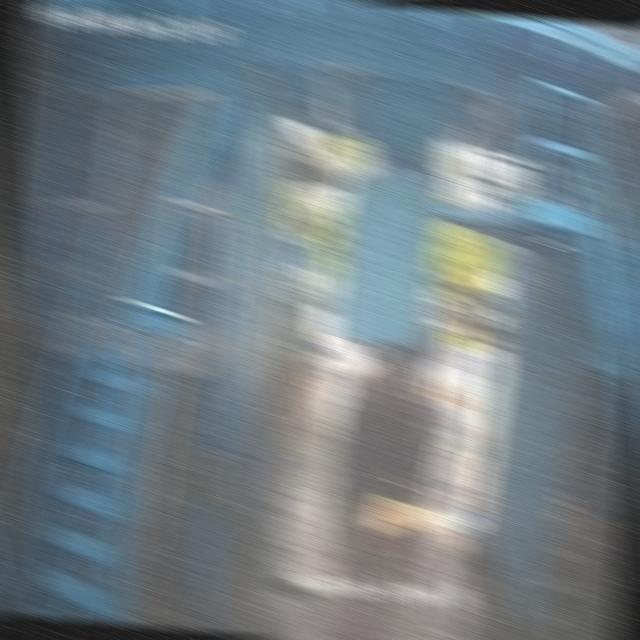cement_mixer_truck: (329, 277, 454, 494)
